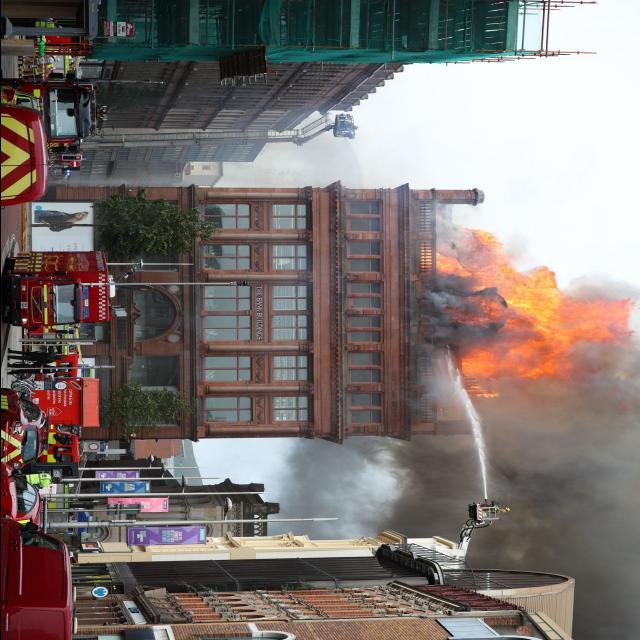Fire: (428, 225, 628, 402)
